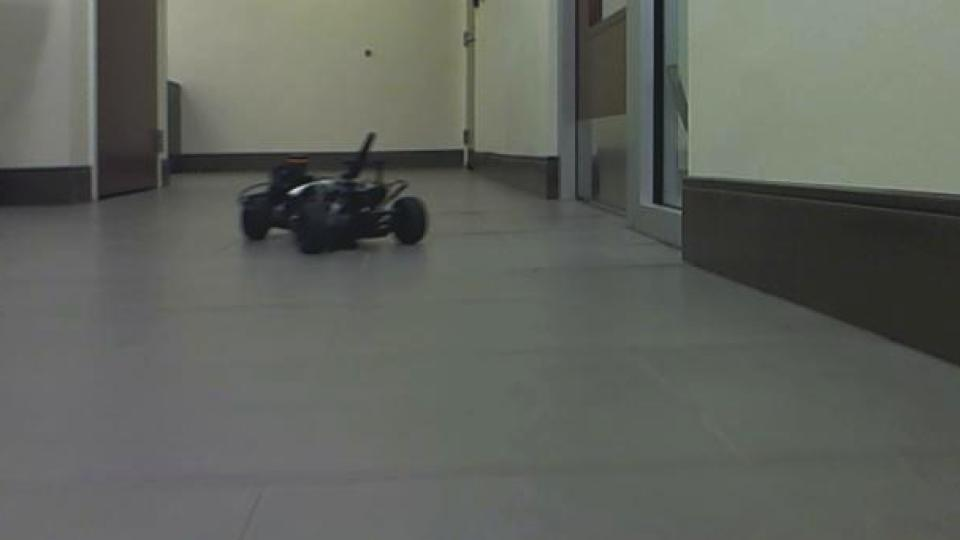car: (236, 129, 433, 257)
